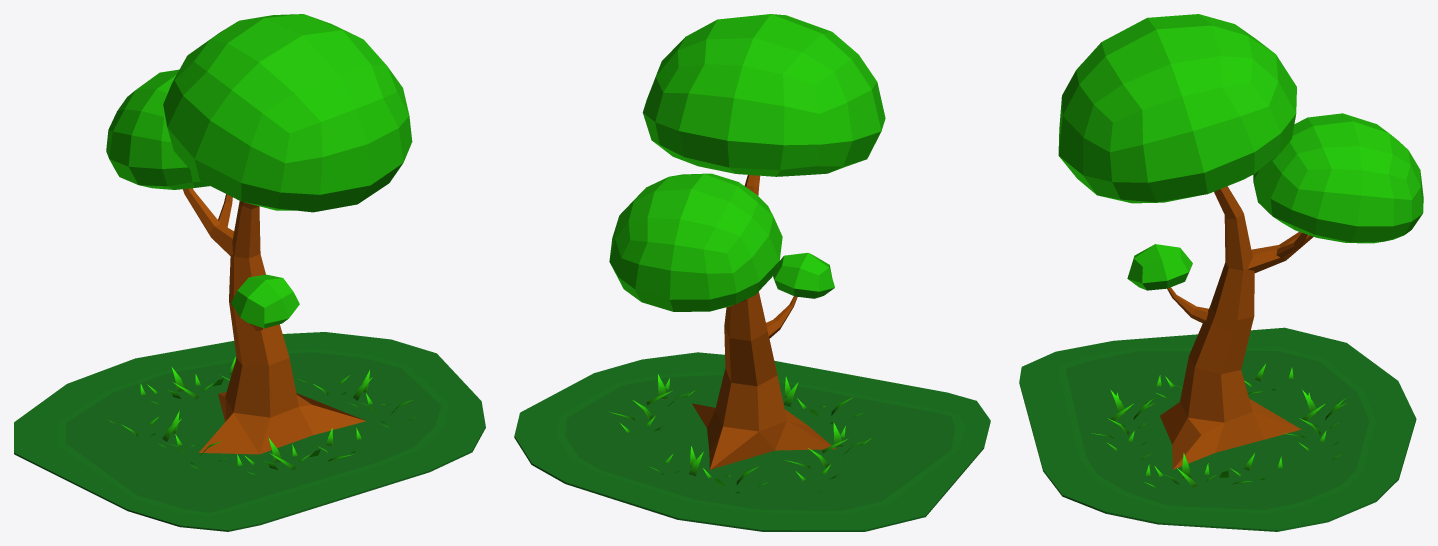
Rendered from TreeSingle.glb.
The picture shows the model from 3 angles, left to right: view 1: azimuth 30°, elevation 25°; view 2: azimuth 150°, elevation 25°; view 3: azimuth 270°, elevation 25°; orthographic projection. The views are drawn at different scales.
Parts seen in each view (by area): view 1: Tree1.001; view 2: Tree1.001; view 3: Tree1.001.
Part boxes in pixels (<box>): Tree1.001: <box>14,14,485,531</box>; Tree1.001: <box>514,14,990,531</box>; Tree1.001: <box>1019,14,1423,531</box>.
Bounding box in the file's own units: 1.58 × 1.48 × 1.33.
2 materials, 2 textured.
